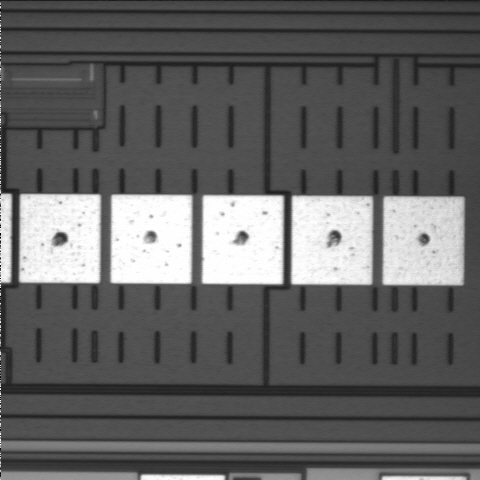pad: (19, 194, 101, 283), (202, 195, 284, 284), (291, 196, 373, 285), (111, 195, 192, 284), (383, 197, 464, 285)
